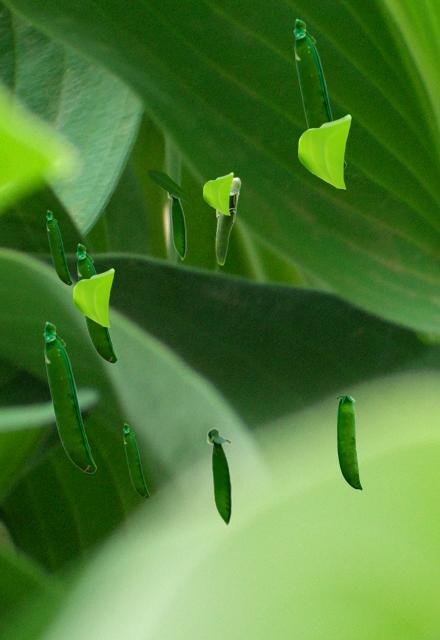pea: (293, 18, 345, 169), (43, 321, 95, 472), (76, 243, 116, 362), (206, 427, 231, 527), (337, 396, 361, 490), (215, 177, 240, 264), (123, 423, 148, 497), (46, 210, 71, 284), (167, 192, 185, 260)
